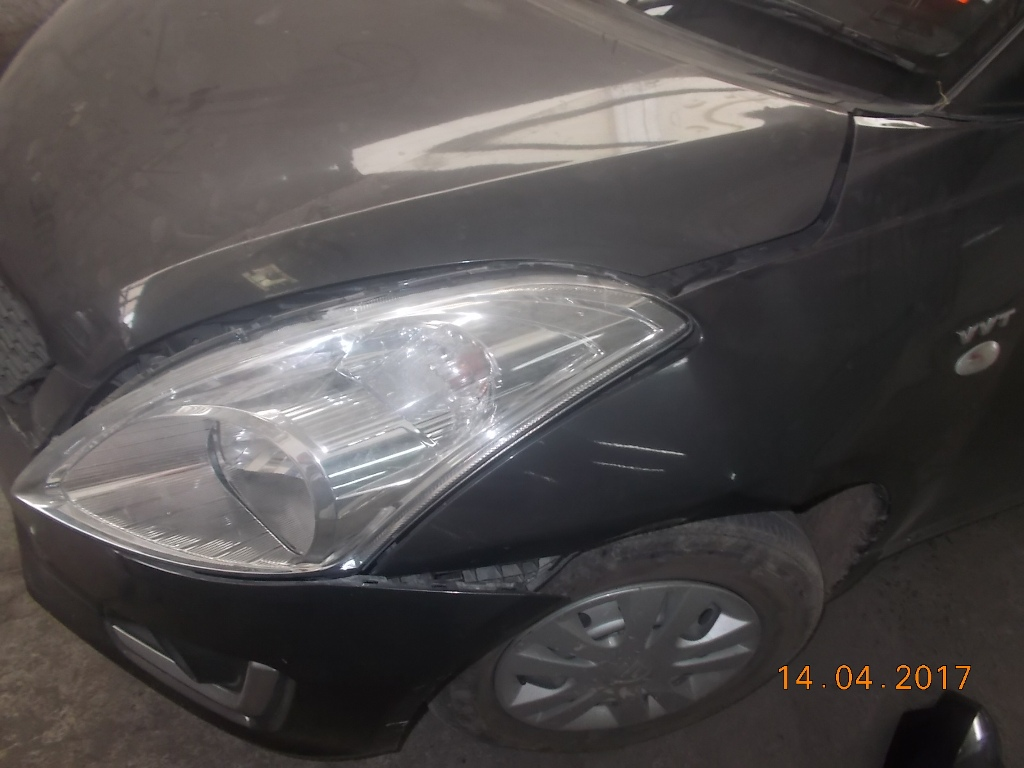Dislocation: (384, 541, 573, 623)
Scratch_or_spot: (602, 430, 680, 485)
